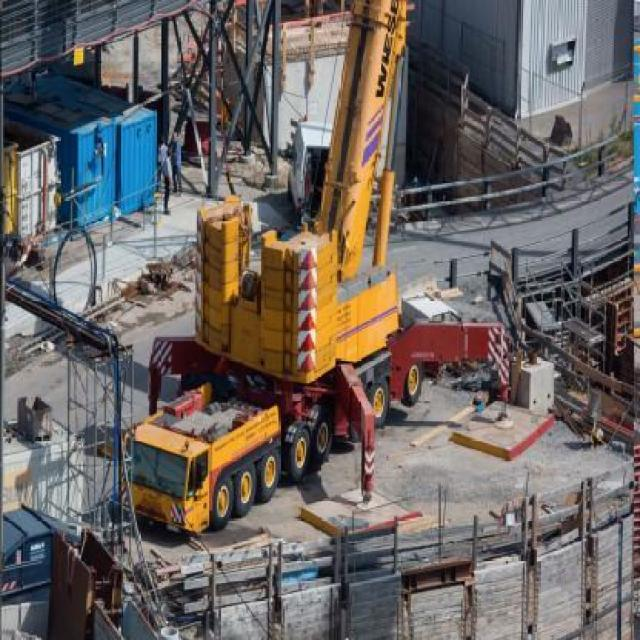Mobile Crane: (113, 0, 555, 522)
